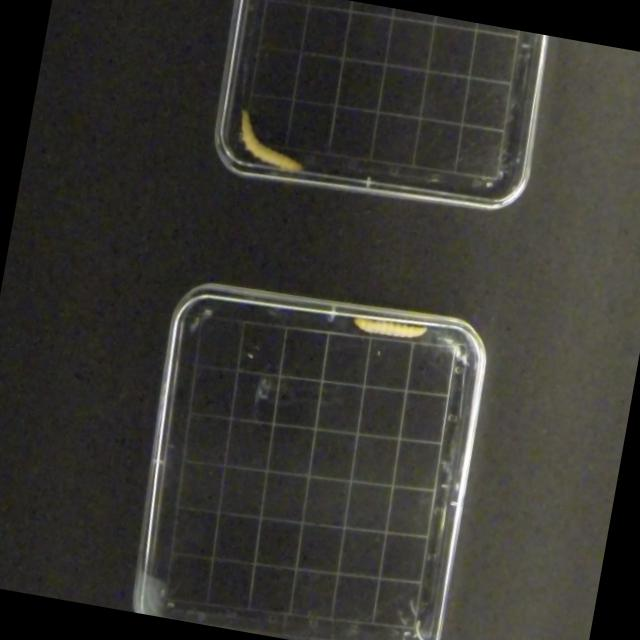larva: (222, 101, 316, 176), (346, 307, 436, 347)
